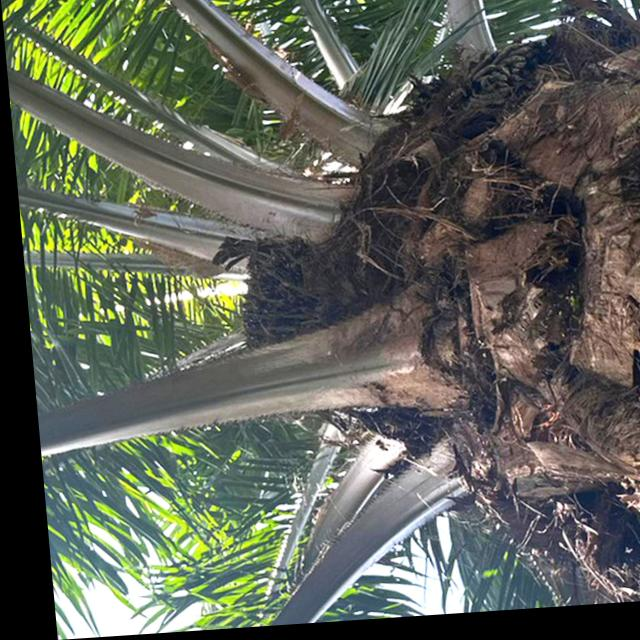unripe: (220, 233, 328, 356)
